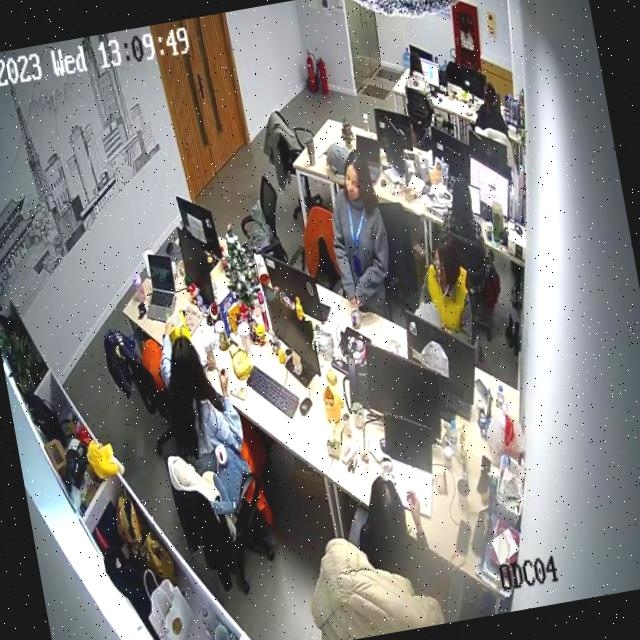person: (152, 311, 260, 492), (317, 142, 403, 329), (343, 465, 445, 613), (404, 231, 480, 351), (434, 174, 487, 251), (468, 80, 510, 143), (398, 48, 434, 104)
